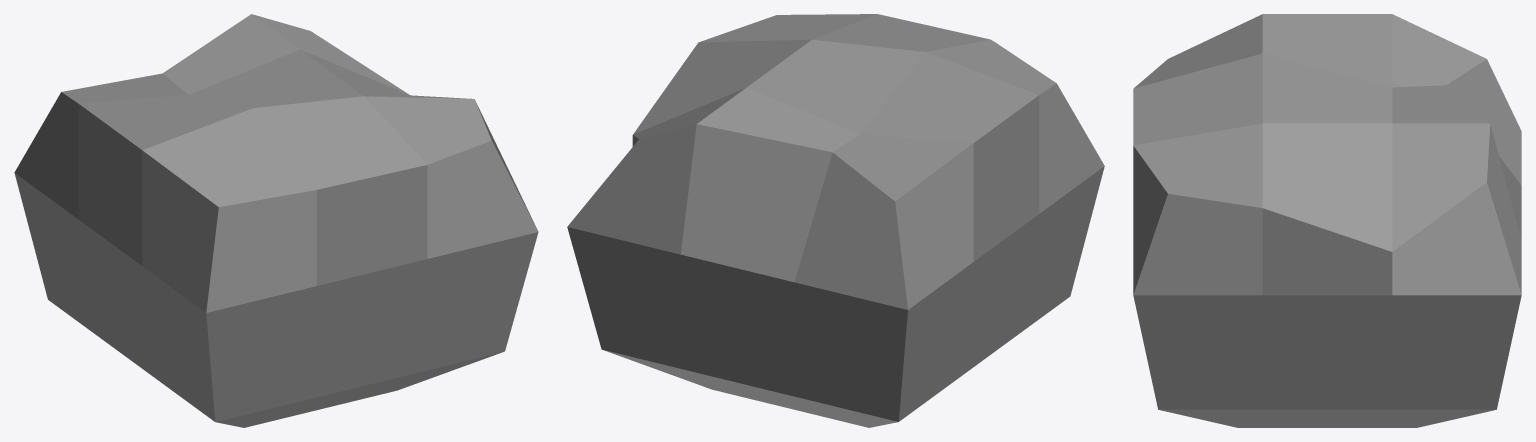
Rendered from Rock.fbx.
The picture shows the model from 3 angles, left to right: view 1: azimuth 30°, elevation 25°; view 2: azimuth 150°, elevation 25°; view 3: azimuth 270°, elevation 25°; orthographic projection. The views are drawn at different scales.
Parts seen in each view (by area): view 1: pCube1; view 2: pCube1; view 3: pCube1.
Boxes of the visible parts, left/top/right/bottom form: pCube1: left=14, top=14, right=538, bottom=427; pCube1: left=567, top=14, right=1104, bottom=427; pCube1: left=1133, top=14, right=1521, bottom=427.
Bounding box in the file's own units: 1 × 0.8789 × 1.
1 material, 1 textured.
